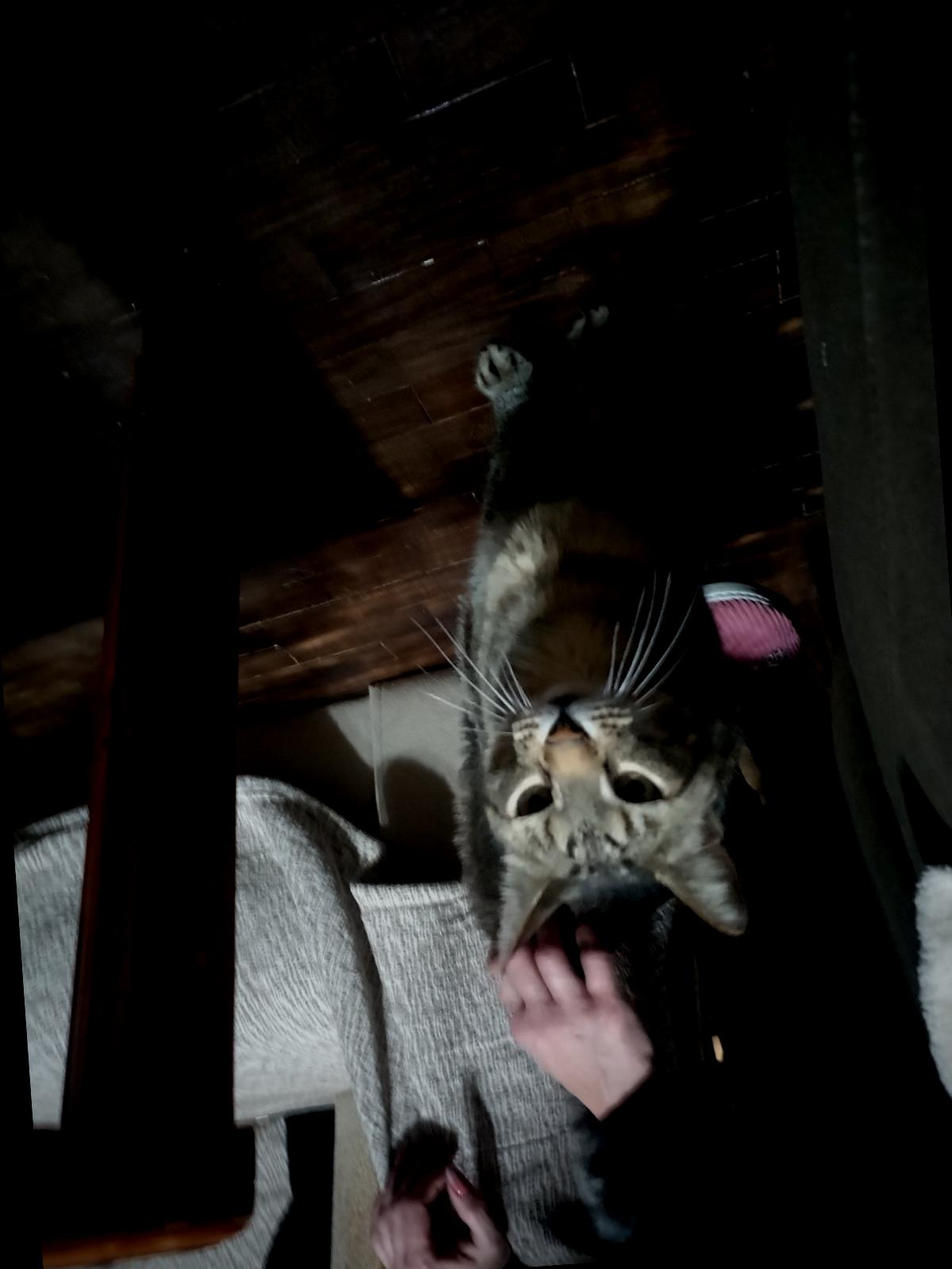macka: (424, 291, 756, 965)
